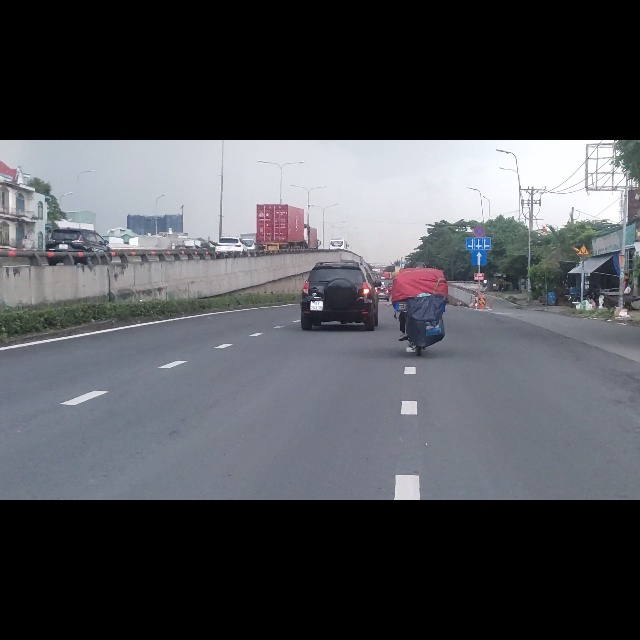bien_cam: (471, 194, 487, 223), (471, 153, 485, 172), (578, 185, 589, 204)
